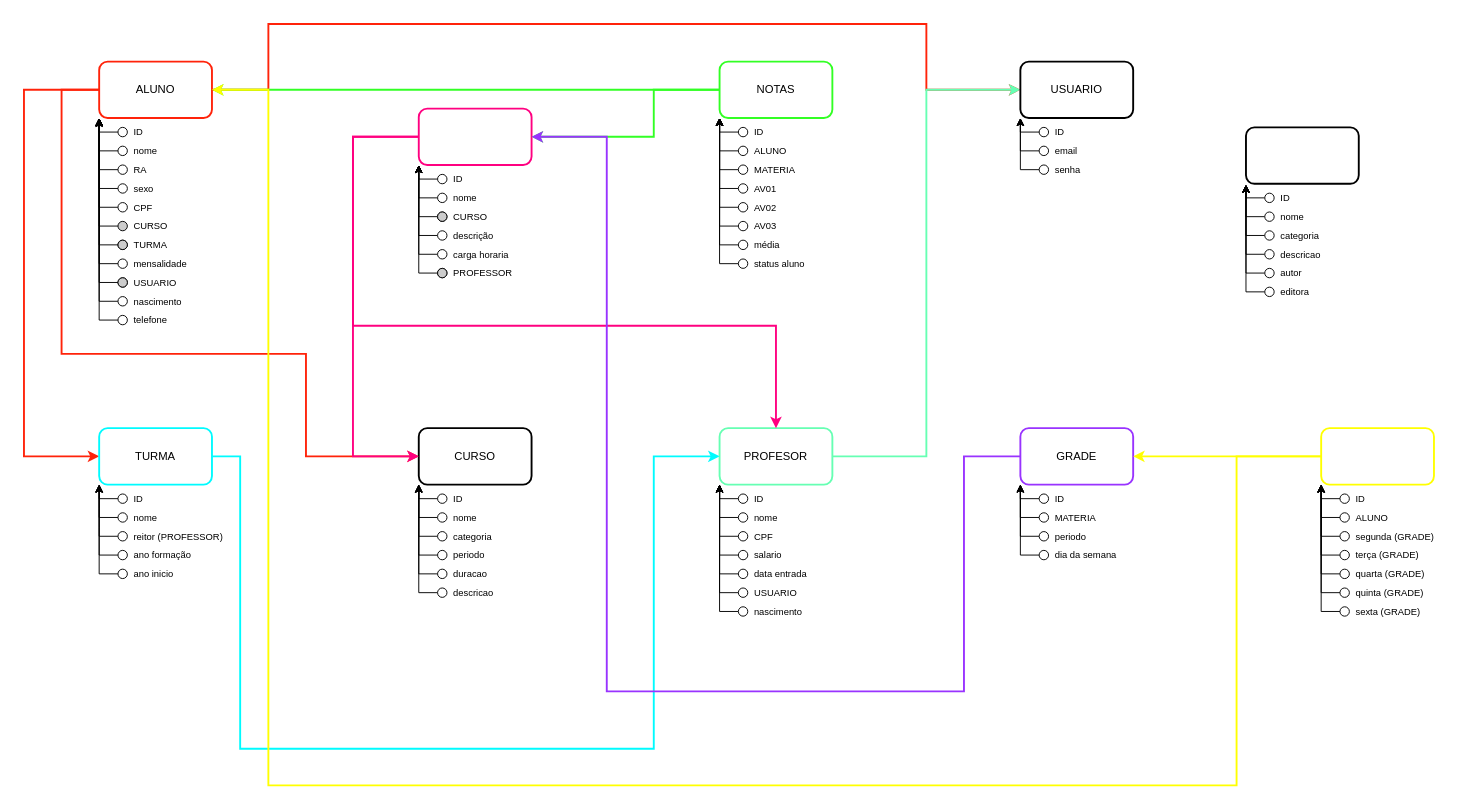
Some shapes in this 1473 by 809 pixel diagram are drawn without their labels. The box of each missing label's shape, as (x1, y1, x2, y2) in pixels:
AGENDA: (1320, 427, 1434, 485)
LIVRO: (1245, 126, 1359, 184)
MATÉRIA: (417, 107, 532, 165)
